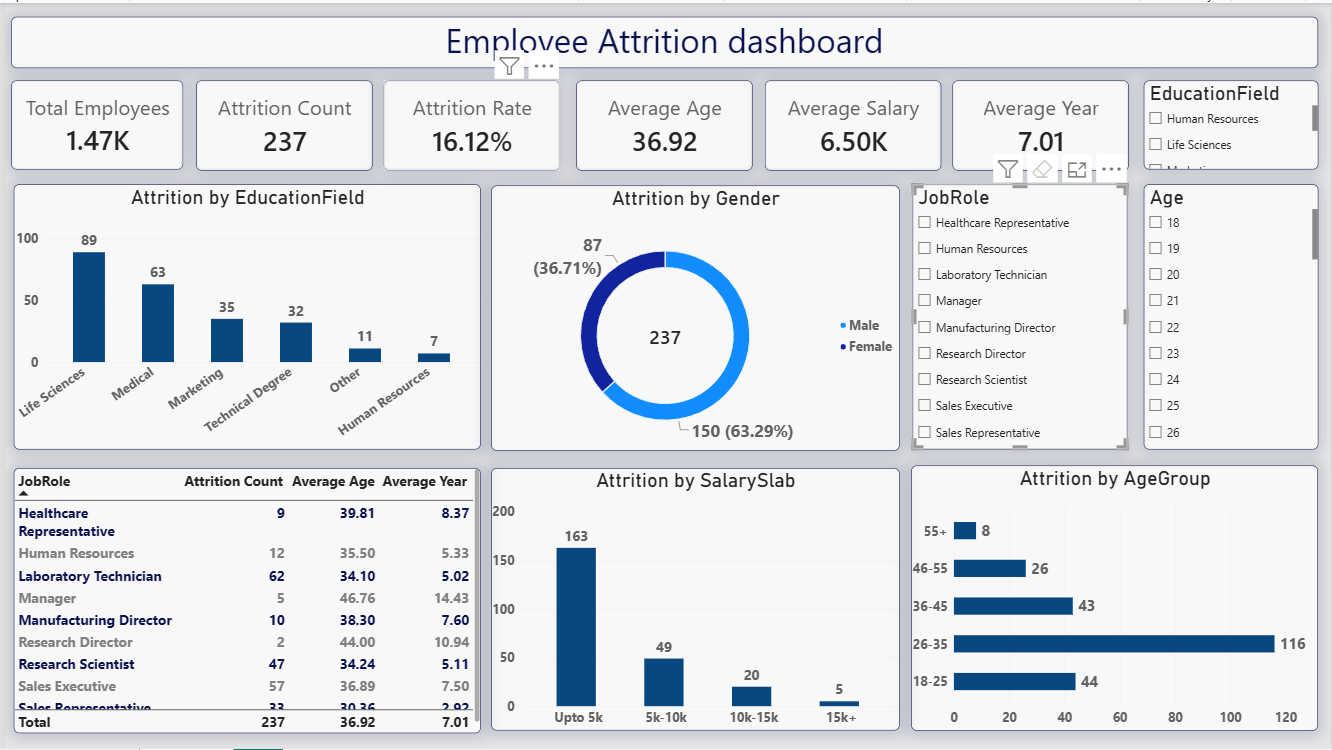

Layout of this report page (visuals, bound fields, positions):
{"tool":"powerbi","page":{"name":"Page 1","canvas":[1920,1080],"ordinal":0},"visuals":[{"type":"textbox","box":[9.8,19.6,1892.2,74.5],"z":0},{"type":"cardVisual","fields":{"Data":["HR_Analytics (1).Total Employees"]},"box":[9.1,112.7,249.1,129.1],"z":1000},{"type":"cardVisual","fields":{"Data":["HR_Analytics (1).Attrition Count"]},"box":[276.4,112.7,255.2,130.3],"z":2000},{"type":"cardVisual","fields":{"Data":["HR_Analytics (1).Attrition Rate"]},"box":[548.3,112.2,255.2,130.3],"z":3000},{"type":"cardVisual","fields":{"Data":["HR_Analytics (1).Average Age"]},"box":[827,112.2,255.2,130.3],"z":4000},{"type":"cardVisual","fields":{"Data":["HR_Analytics (1).Average Salary"]},"box":[1100.3,112.2,255.2,130.3],"z":5000},{"type":"cardVisual","fields":{"Data":["HR_Analytics (1).Average Year"]},"box":[1371.7,112.2,255.2,130.3],"z":6000},{"type":"clusteredColumnChart","title":"Attrition by EducationField","fields":{"Category":["HR_Analytics (1).EducationField"],"Y":["HR_Analytics (1).Attrition Count"]},"box":[12.7,261.8,676.4,383.6],"z":7000},{"type":"donutChart","title":"Attrition by Gender","fields":{"Category":["HR_Analytics (1).Gender"],"Y":["HR_Analytics (1).Attrition Count"]},"box":[703.6,263.6,590.9,383.6],"z":8000},{"type":"clusteredBarChart","title":"Attrition by AgeGroup","fields":{"Category":["HR_Analytics (1).AgeGroup"],"Y":["HR_Analytics (1).Attrition Count"]},"box":[1312.7,669.1,589.1,383.6],"z":9000},{"type":"clusteredColumnChart","title":"Attrition by SalarySlab","fields":{"Category":["HR_Analytics (1).SalarySlab"],"Y":["HR_Analytics (1).Attrition Count"]},"box":[703.6,672.7,590.9,380],"z":10000},{"type":"tableEx","fields":{"Values":["HR_Analytics (1).JobRole","HR_Analytics (1).Attrition Count","HR_Analytics (1).Average Age","HR_Analytics (1).Average Year"]},"box":[12.7,672.7,676.4,383.6],"z":11000},{"type":"slicer","fields":{"Values":["HR_Analytics (1).EducationField"]},"box":[1649.1,112.7,252.7,129.1],"z":12000},{"type":"slicer","fields":{"Values":["HR_Analytics (1).JobRole"]},"box":[1314.5,261.8,310.9,383.6],"z":13000},{"type":"slicer","fields":{"Values":["HR_Analytics (1).Age"]},"box":[1649.1,261.8,252.7,383.6],"z":14000}]}

Visuals, with their boxes in screenshot pixels (x1, y1, x2, y2), scaled from the page's 1920x1080 canvas onto the 1332x750 screenshot:
textbox: x1=7, y1=14, x2=1320, y2=65
cardVisual - HR_Analytics (1).Total Employees: x1=6, y1=78, x2=179, y2=168
cardVisual - HR_Analytics (1).Attrition Count: x1=192, y1=78, x2=369, y2=169
cardVisual - HR_Analytics (1).Attrition Rate: x1=380, y1=78, x2=557, y2=168
cardVisual - HR_Analytics (1).Average Age: x1=574, y1=78, x2=751, y2=168
cardVisual - HR_Analytics (1).Average Salary: x1=763, y1=78, x2=940, y2=168
cardVisual - HR_Analytics (1).Average Year: x1=952, y1=78, x2=1129, y2=168
"Attrition by EducationField" clusteredColumnChart: x1=9, y1=182, x2=478, y2=448
"Attrition by Gender" donutChart: x1=488, y1=183, x2=898, y2=449
"Attrition by AgeGroup" clusteredBarChart: x1=911, y1=465, x2=1319, y2=731
"Attrition by SalarySlab" clusteredColumnChart: x1=488, y1=467, x2=898, y2=731
tableEx - HR_Analytics (1).JobRole x HR_Analytics (1).Attrition Count: x1=9, y1=467, x2=478, y2=734
slicer - HR_Analytics (1).EducationField: x1=1144, y1=78, x2=1319, y2=168
slicer - HR_Analytics (1).JobRole: x1=912, y1=182, x2=1128, y2=448
slicer - HR_Analytics (1).Age: x1=1144, y1=182, x2=1319, y2=448
